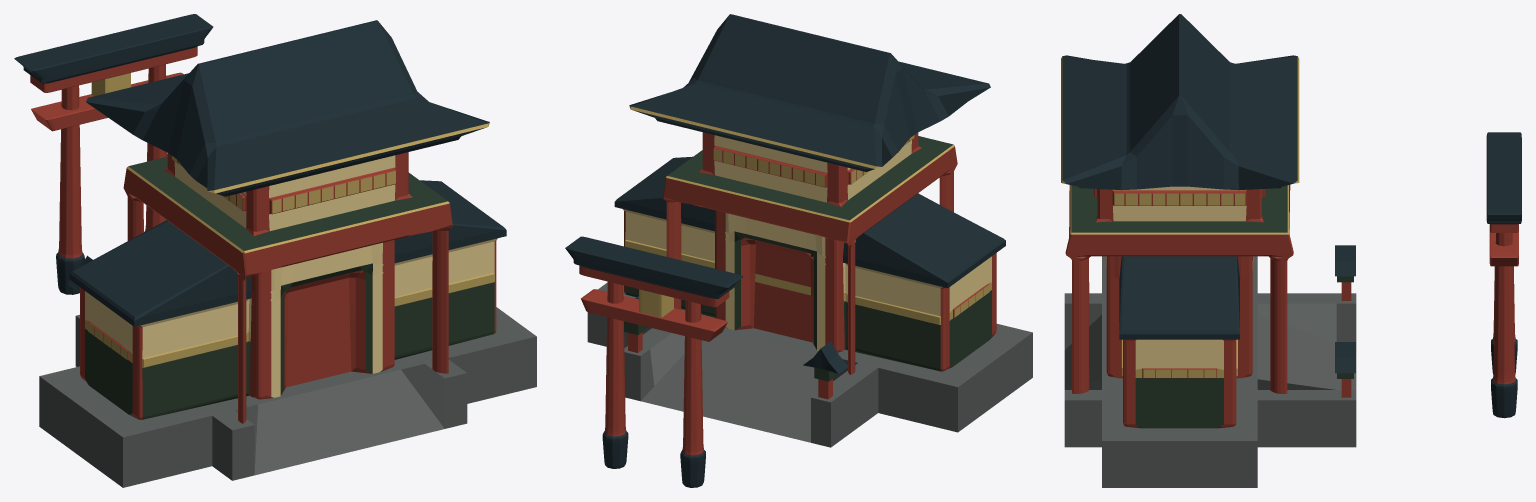
Rendered from sensoji.fbx.
3 renders of one model, left to right at view 1: azimuth 30°, elevation 25°; view 2: azimuth 150°, elevation 25°; view 3: azimuth 270°, elevation 25°, orthographic. The views are drawn at different scales.
Visible parts, largest first — view 1: Cube.004; view 2: Cube.004; view 3: Cube.004.
Boxes of the visible parts, x1=… form: Cube.004: x1=14, y1=14, x2=536, y2=487; Cube.004: x1=565, y1=14, x2=1032, y2=487; Cube.004: x1=1061, y1=14, x2=1521, y2=487.
Size of the model in its own units: 86.47 by 72.74 by 89.57.
